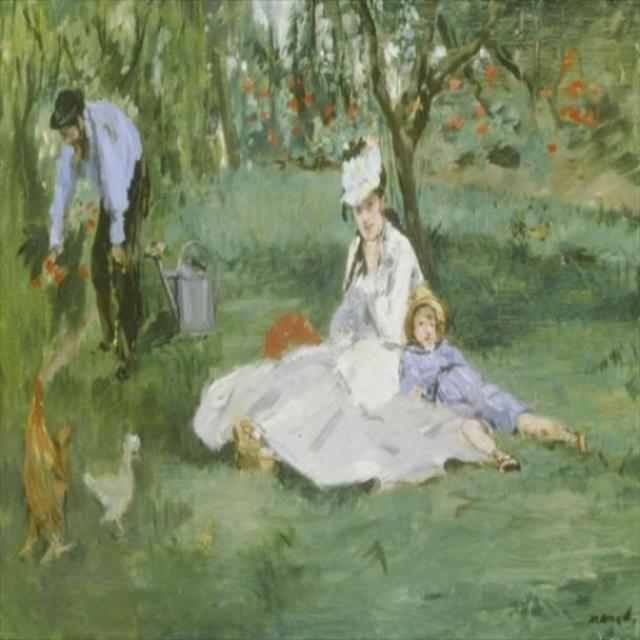Chicken: (6, 372, 86, 569), (77, 420, 150, 545)
